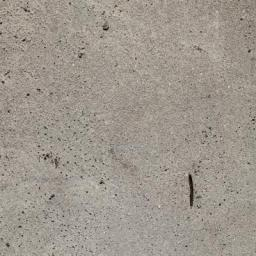FOD: (184, 172, 198, 211)
